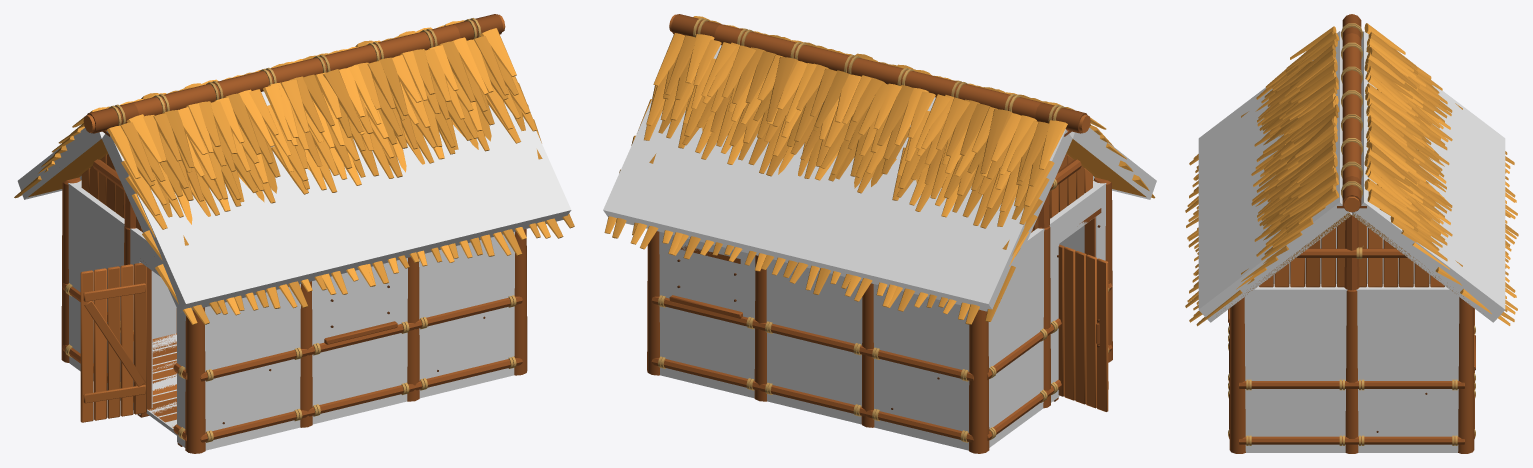
Rendered from IO_Hut_A_Full.glb.
3 views of the same model, side by side, from view 1: azimuth 30°, elevation 25°; view 2: azimuth 150°, elevation 25°; view 3: azimuth 270°, elevation 25° (orthographic). The views are drawn at different scales.
Parts seen in each view (by area): view 1: IO_Hut_A_Full_LOD0, IO_Hut_A_Full_COL_9, IO_Hut_A_Full_COL_1, IO_Hut_A_Full_COL_4, IO_Hut_A_Full_COL_10, IO_Hut_A_Full_COL_2, IO_Hut_A_Full_COL_0, IO_Hut_A_Full_COL_5; view 2: IO_Hut_A_Full_LOD0, IO_Hut_A_Full_COL_10, IO_Hut_A_Full_COL_2, IO_Hut_A_Full_COL_4, IO_Hut_A_Full_COL_9, IO_Hut_A_Full_COL_6, IO_Hut_A_Full_COL_5; view 3: IO_Hut_A_Full_LOD0, IO_Hut_A_Full_COL_3, IO_Hut_A_Full_COL_10, IO_Hut_A_Full_COL_9, IO_Hut_A_Full_COL_8.
Boxes of the visible parts, x1,y1,x2,y2 form: IO_Hut_A_Full_LOD0: (14, 14, 574, 453); IO_Hut_A_Full_COL_9: (102, 91, 571, 313); IO_Hut_A_Full_COL_1: (205, 231, 514, 450); IO_Hut_A_Full_COL_4: (68, 183, 152, 414); IO_Hut_A_Full_COL_10: (17, 128, 104, 199); IO_Hut_A_Full_COL_2: (80, 180, 176, 338); IO_Hut_A_Full_COL_0: (146, 333, 176, 435); IO_Hut_A_Full_COL_5: (177, 309, 185, 447); IO_Hut_A_Full_LOD0: (604, 14, 1155, 453); IO_Hut_A_Full_COL_10: (603, 45, 1072, 313); IO_Hut_A_Full_COL_2: (659, 231, 969, 450); IO_Hut_A_Full_COL_4: (988, 216, 1059, 447); IO_Hut_A_Full_COL_9: (1069, 128, 1156, 199); IO_Hut_A_Full_COL_6: (1054, 189, 1096, 243); IO_Hut_A_Full_COL_5: (1083, 183, 1106, 260); IO_Hut_A_Full_LOD0: (1185, 14, 1518, 453); IO_Hut_A_Full_COL_3: (1244, 284, 1459, 452); IO_Hut_A_Full_COL_10: (1352, 31, 1505, 322); IO_Hut_A_Full_COL_9: (1198, 31, 1351, 322); IO_Hut_A_Full_COL_8: (1273, 227, 1430, 283).
Size of the model in its own units: 5.98 by 4.08 by 4.44.
